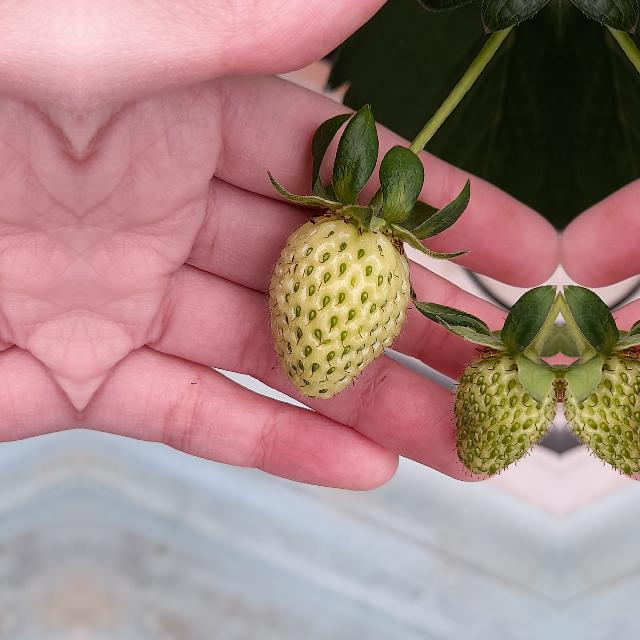Health_25: (268, 210, 410, 398), (449, 345, 559, 477), (561, 345, 640, 477)
